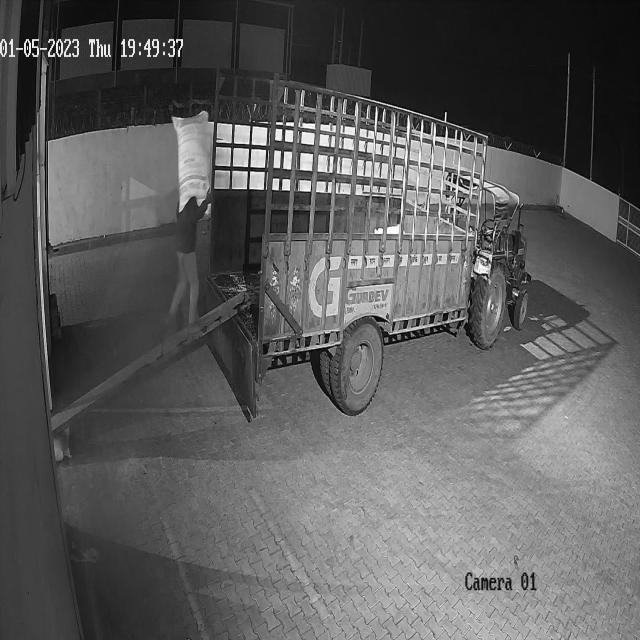sack: (170, 109, 209, 215)
